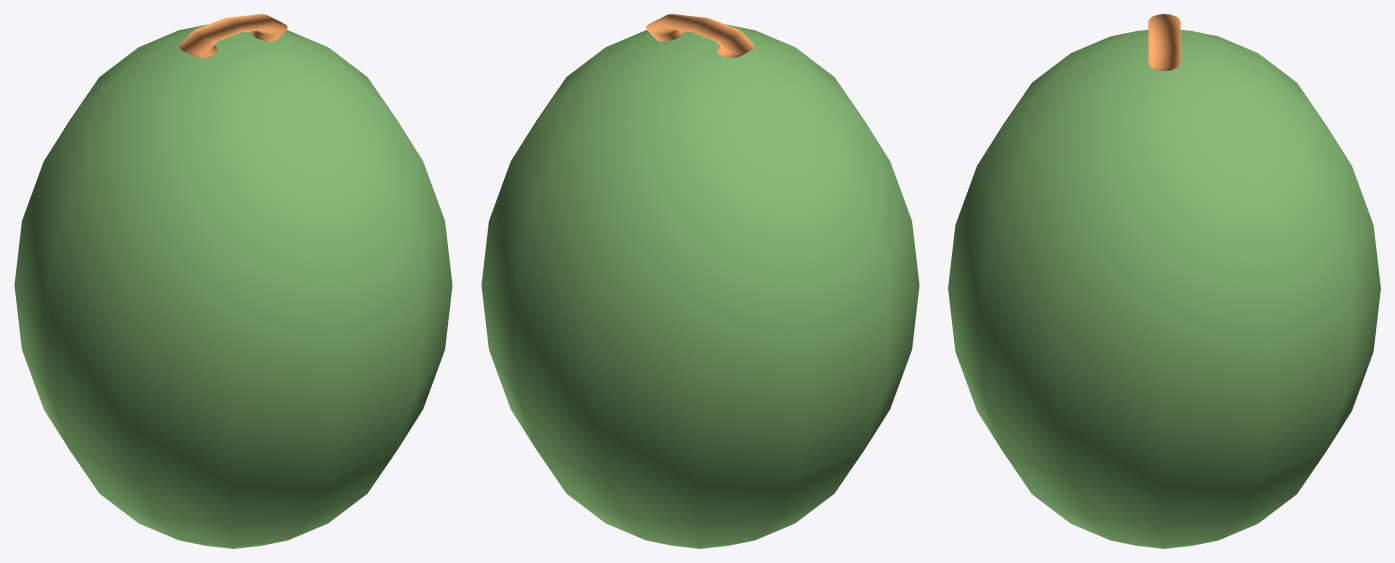
Rendered from env-ww-barrel-cactus.glb.
3 views of the same model, side by side, from view 1: azimuth 30°, elevation 25°; view 2: azimuth 150°, elevation 25°; view 3: azimuth 270°, elevation 25° (orthographic).
Size of the model in its own units: 0.4 by 0.5165 by 0.4.
